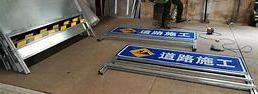sign: (109, 47, 249, 72), (110, 26, 196, 37)
